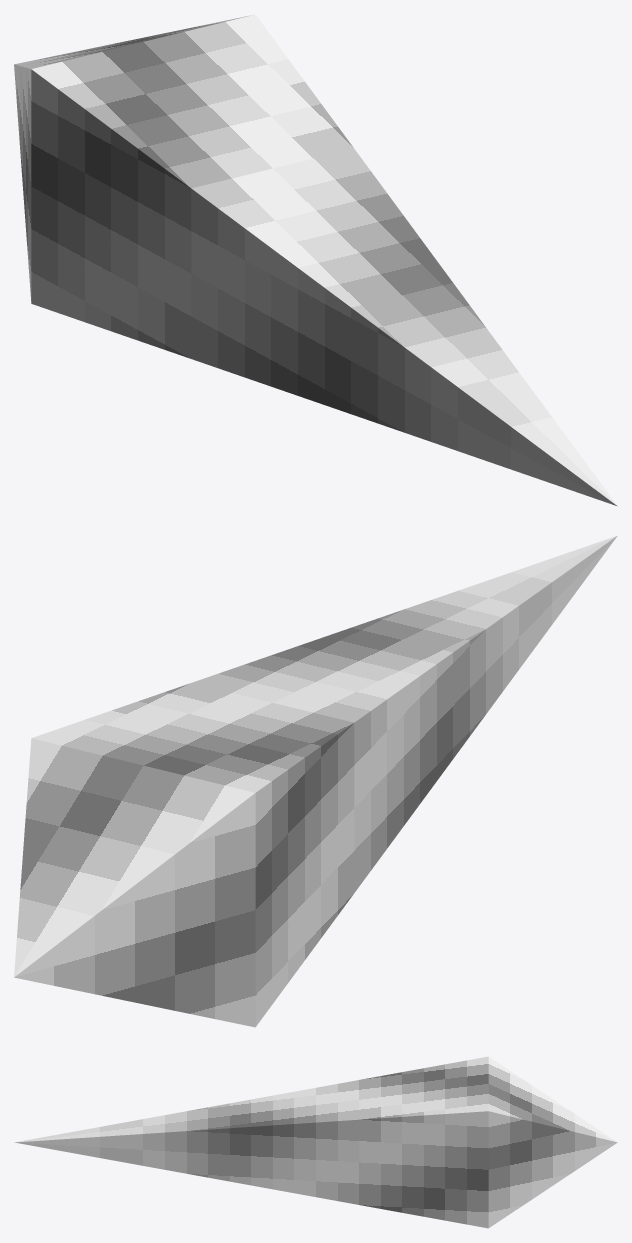
Rendered from spell_projectile_ice.obj.
3 renders of one model, top to bottom at view 1: azimuth 30°, elevation 25°; view 2: azimuth 150°, elevation 25°; view 3: azimuth 270°, elevation 25°, orthographic. The views are drawn at different scales.
Visible parts, largest first — view 1: SPELL_PROJECTILE_ICE_Cube; view 2: SPELL_PROJECTILE_ICE_Cube; view 3: SPELL_PROJECTILE_ICE_Cube.
Boxes of the visible parts, <box> form: SPELL_PROJECTILE_ICE_Cube: <box>14,14,617,506</box>; SPELL_PROJECTILE_ICE_Cube: <box>14,535,617,1027</box>; SPELL_PROJECTILE_ICE_Cube: <box>14,1056,617,1228</box>.
Bounding box in the file's own units: 0.1875 × 0.1875 × 0.875.
